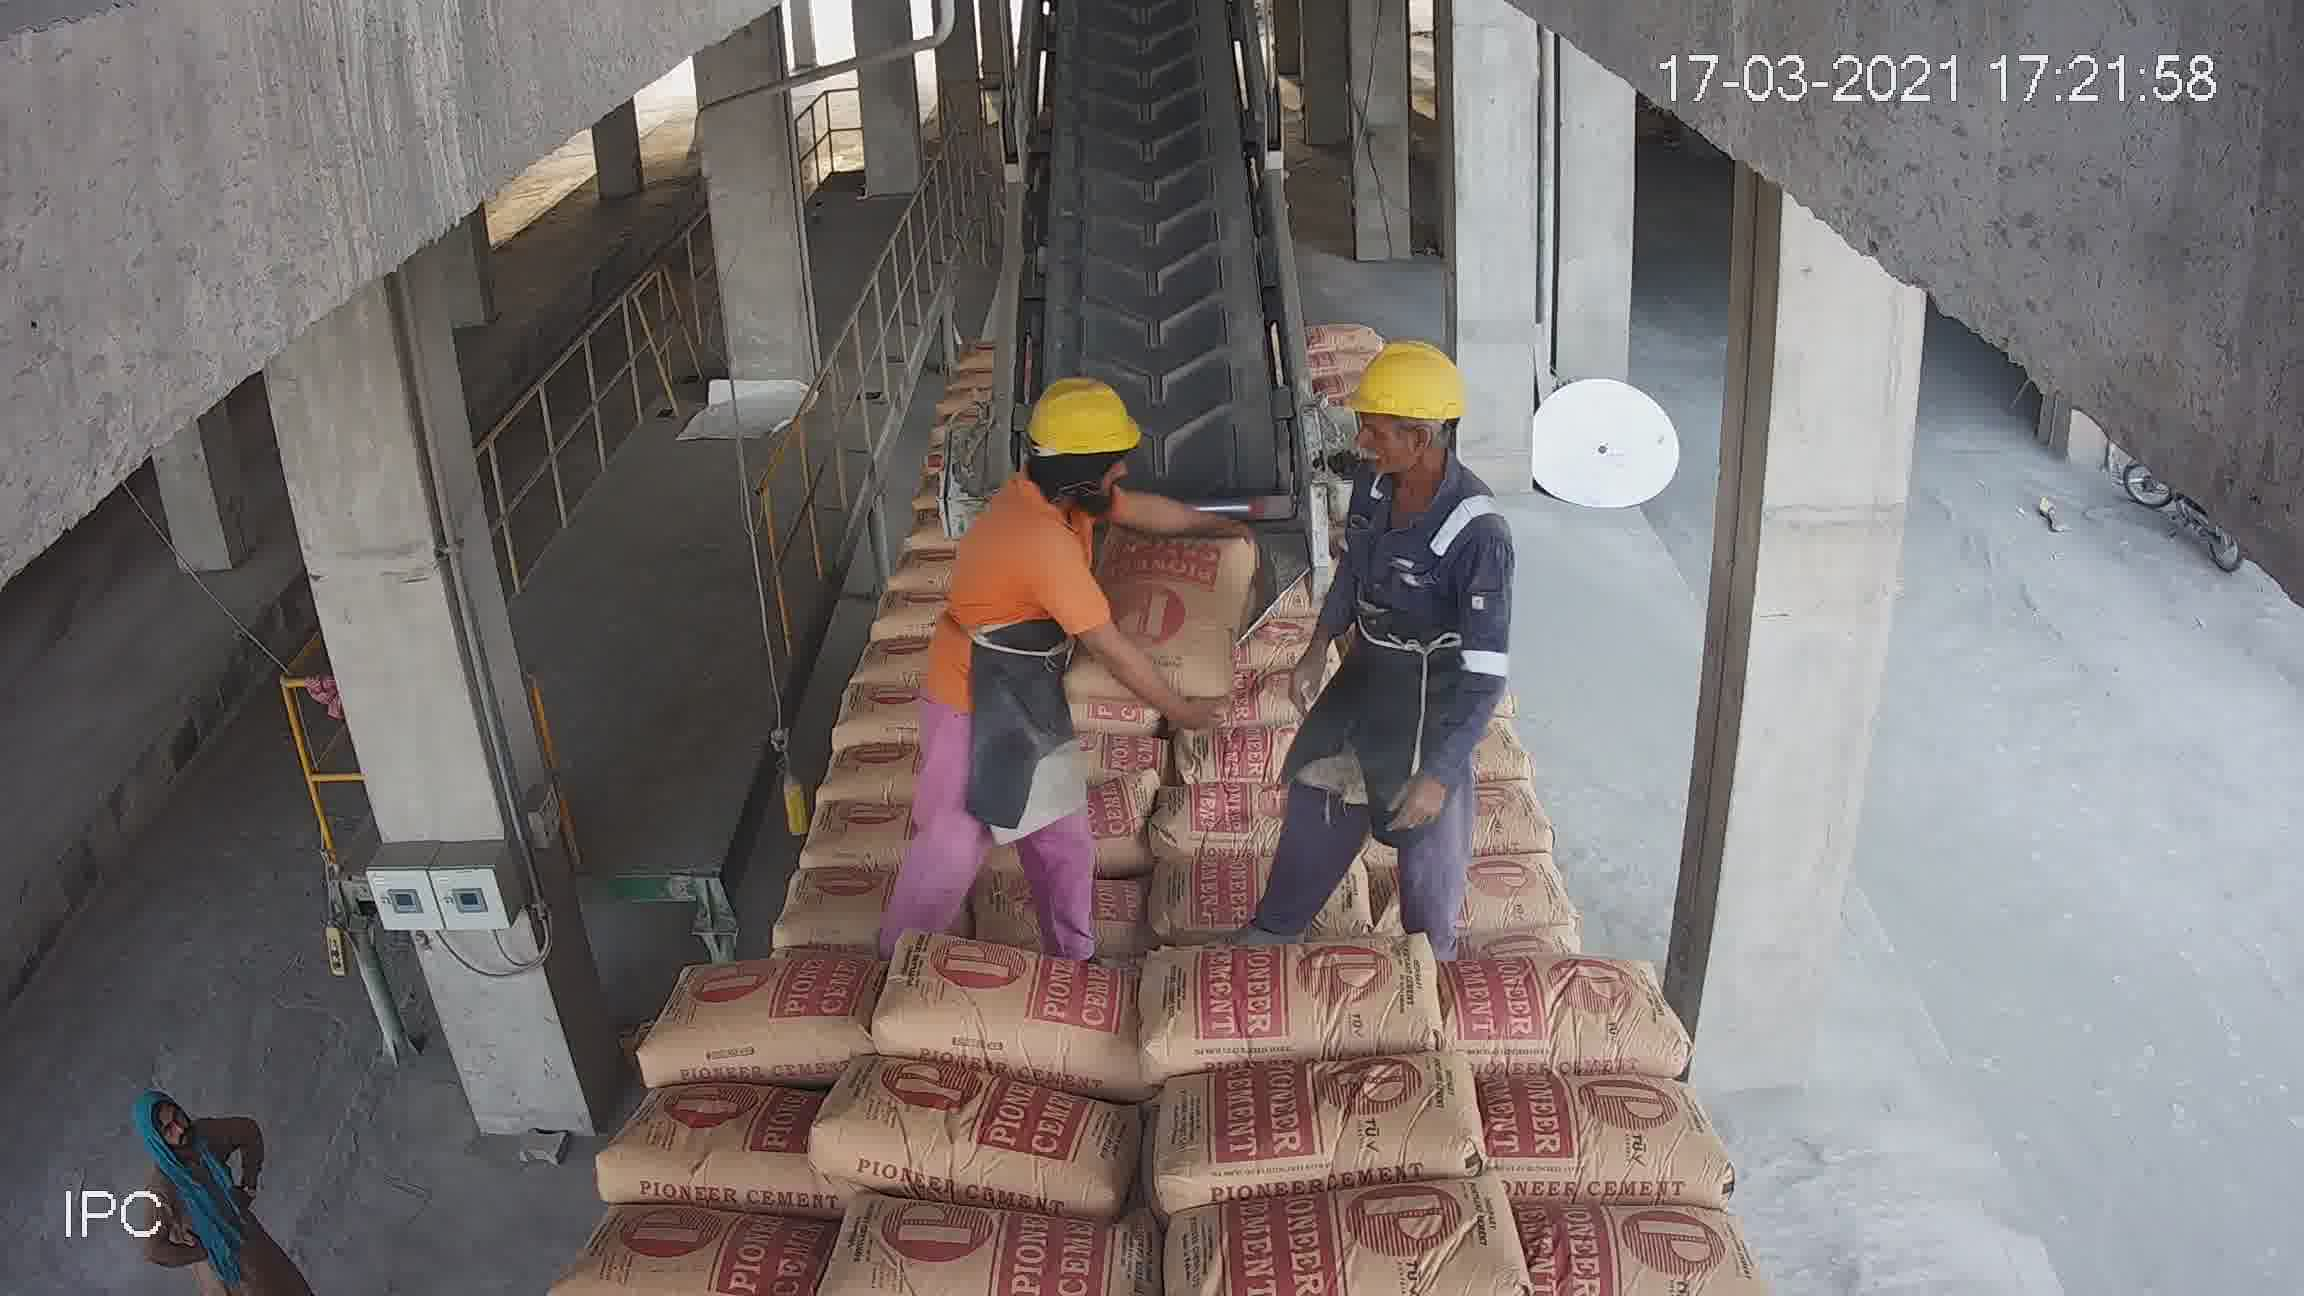bag_h: (1141, 1036, 1484, 1203), (1135, 703, 1402, 850), (1169, 1188, 1506, 1294), (1131, 937, 1438, 1052), (892, 937, 1152, 1068), (828, 1079, 1157, 1182), (1146, 832, 1423, 953), (631, 949, 897, 1074), (1481, 1074, 1750, 1193), (597, 1065, 832, 1184), (896, 848, 1149, 953), (1459, 951, 1700, 1060), (1480, 1201, 1787, 1282), (896, 760, 1174, 840), (544, 1215, 839, 1287), (684, 858, 902, 945), (839, 1222, 1154, 1282), (1410, 862, 1647, 942), (1408, 766, 1595, 855), (709, 785, 889, 866), (1169, 609, 1309, 684), (1013, 663, 1179, 725), (896, 502, 1044, 563), (1014, 578, 1211, 623), (1173, 676, 1321, 729), (1003, 617, 1173, 658), (1033, 707, 1166, 760), (1415, 649, 1503, 718), (1168, 567, 1298, 612), (1187, 519, 1301, 568), (1426, 720, 1541, 767), (1052, 541, 1174, 585), (926, 554, 1036, 589), (913, 465, 1003, 506)
belt: (1013, 0, 1301, 517)
